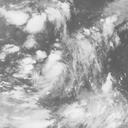cyclone: (34, 31, 91, 95)
